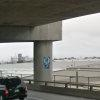Bridge: (13, 6, 82, 71)
